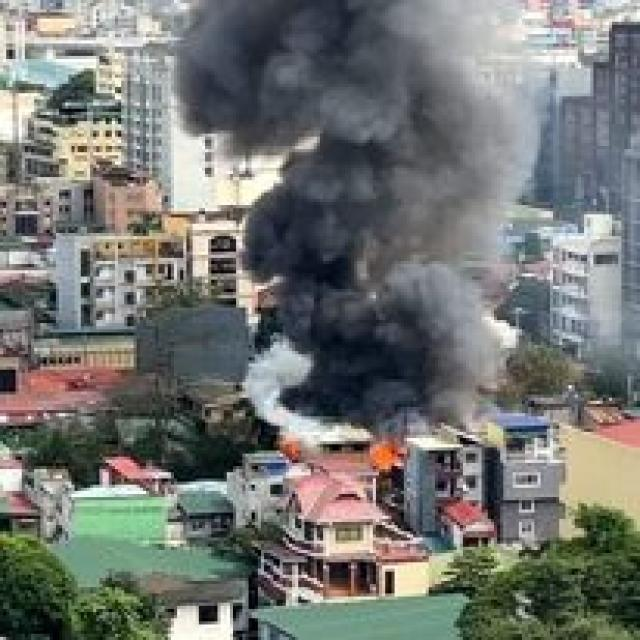Fire: (362, 436, 408, 478), (280, 431, 310, 466)
Smoke: (170, 0, 534, 438)
